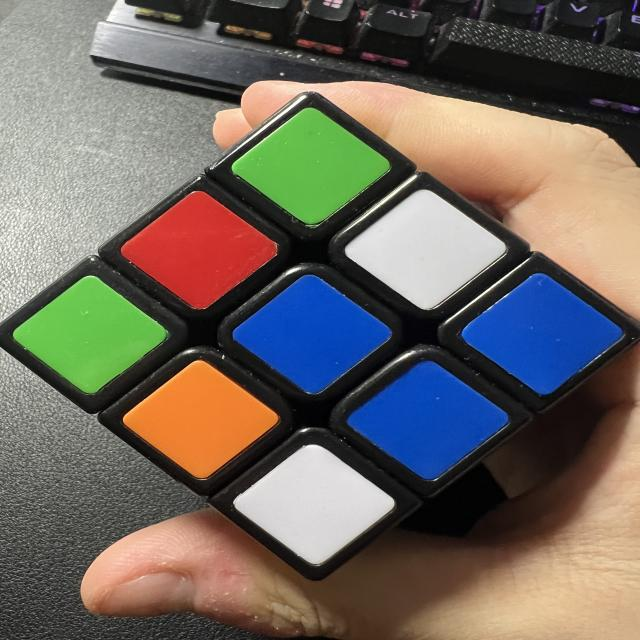blue: (455, 252, 629, 417), (346, 338, 514, 499), (229, 257, 395, 414)
center: (229, 253, 394, 415)
green: (226, 86, 395, 248), (8, 255, 172, 413)
orange: (116, 337, 284, 498)
red: (112, 165, 287, 330)
white: (227, 424, 398, 585), (342, 170, 509, 330)
